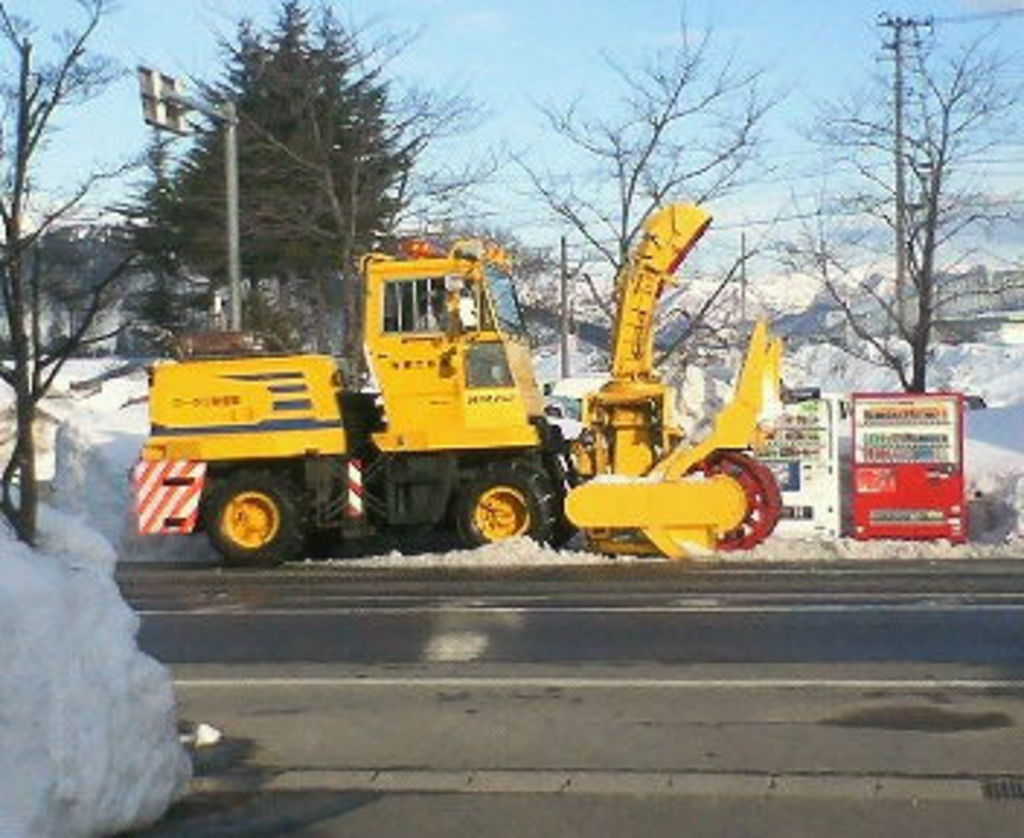Truck: (131, 201, 783, 559)
